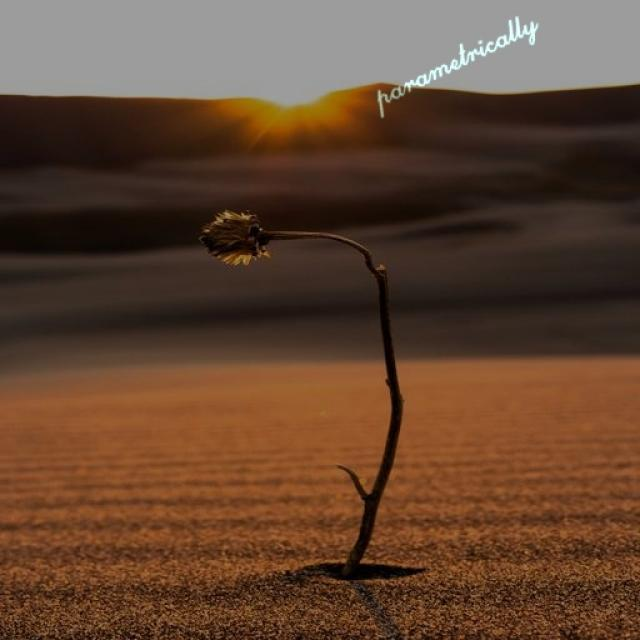watermark: (372, 5, 538, 110)
